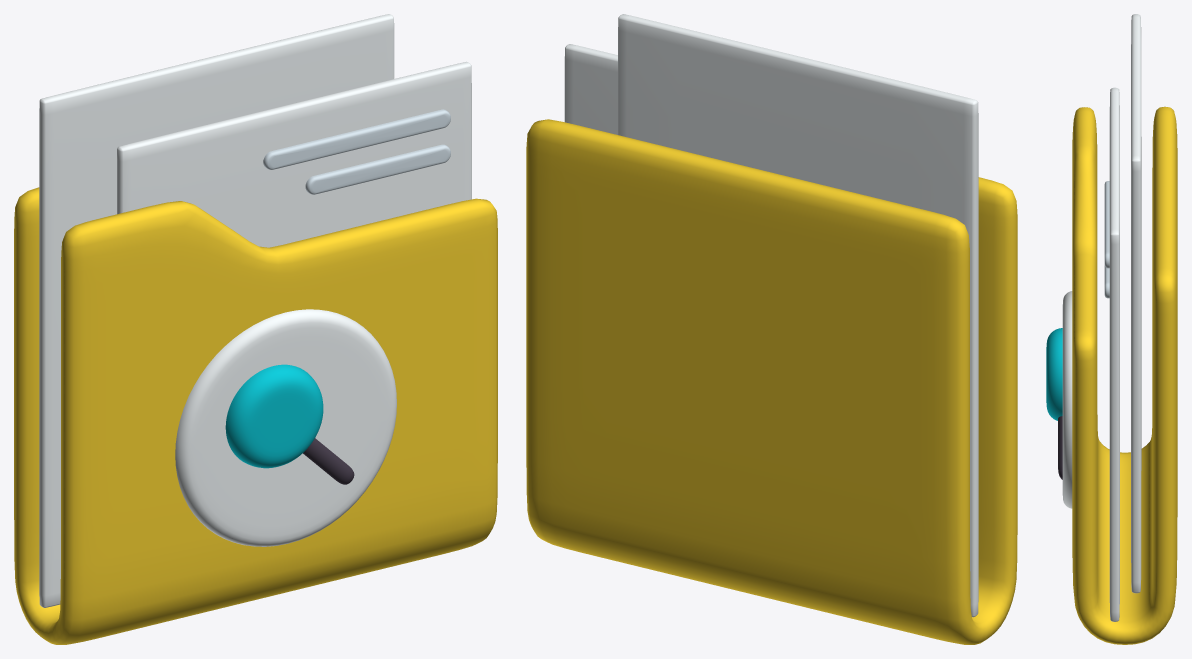
The model's file is search.glb.
3 views of the same model, side by side, from view 1: azimuth 30°, elevation 25°; view 2: azimuth 150°, elevation 25°; view 3: azimuth 270°, elevation 25° (orthographic). The views are drawn at different scales.
Parts seen in each view (by area): view 1: Plane.069, Plane.067, Plane.068, Cylinder.071, Cylinder.068, Cylinder.070, Cylinder.069, Vert.006; view 2: Plane.069, Plane.067, Plane.068; view 3: Plane.069, Plane.067, Plane.068, Cylinder.071, Cylinder.068, Cylinder.070, Vert.006.
Boxes of the visible parts, <box> form: Plane.069: <box>14,187,497,644</box>; Plane.067: <box>39,14,394,607</box>; Plane.068: <box>117,61,471,247</box>; Cylinder.071: <box>175,309,396,546</box>; Cylinder.068: <box>225,364,323,468</box>; Cylinder.070: <box>263,109,450,169</box>; Cylinder.069: <box>305,144,450,194</box>; Vert.006: <box>303,438,354,484</box>; Plane.069: <box>526,119,1017,644</box>; Plane.067: <box>618,14,978,617</box>; Plane.068: <box>564,44,617,134</box>; Plane.069: <box>1072,106,1177,644</box>; Plane.067: <box>1131,14,1141,593</box>; Plane.068: <box>1109,87,1119,621</box>; Cylinder.071: <box>1062,291,1072,508</box>; Cylinder.068: <box>1046,328,1062,420</box>; Cylinder.070: <box>1104,181,1109,268</box>; Vert.006: <box>1058,416,1062,479</box>.
Bounding box in the file's own units: 3.99 × 4.74 × 1.23.
